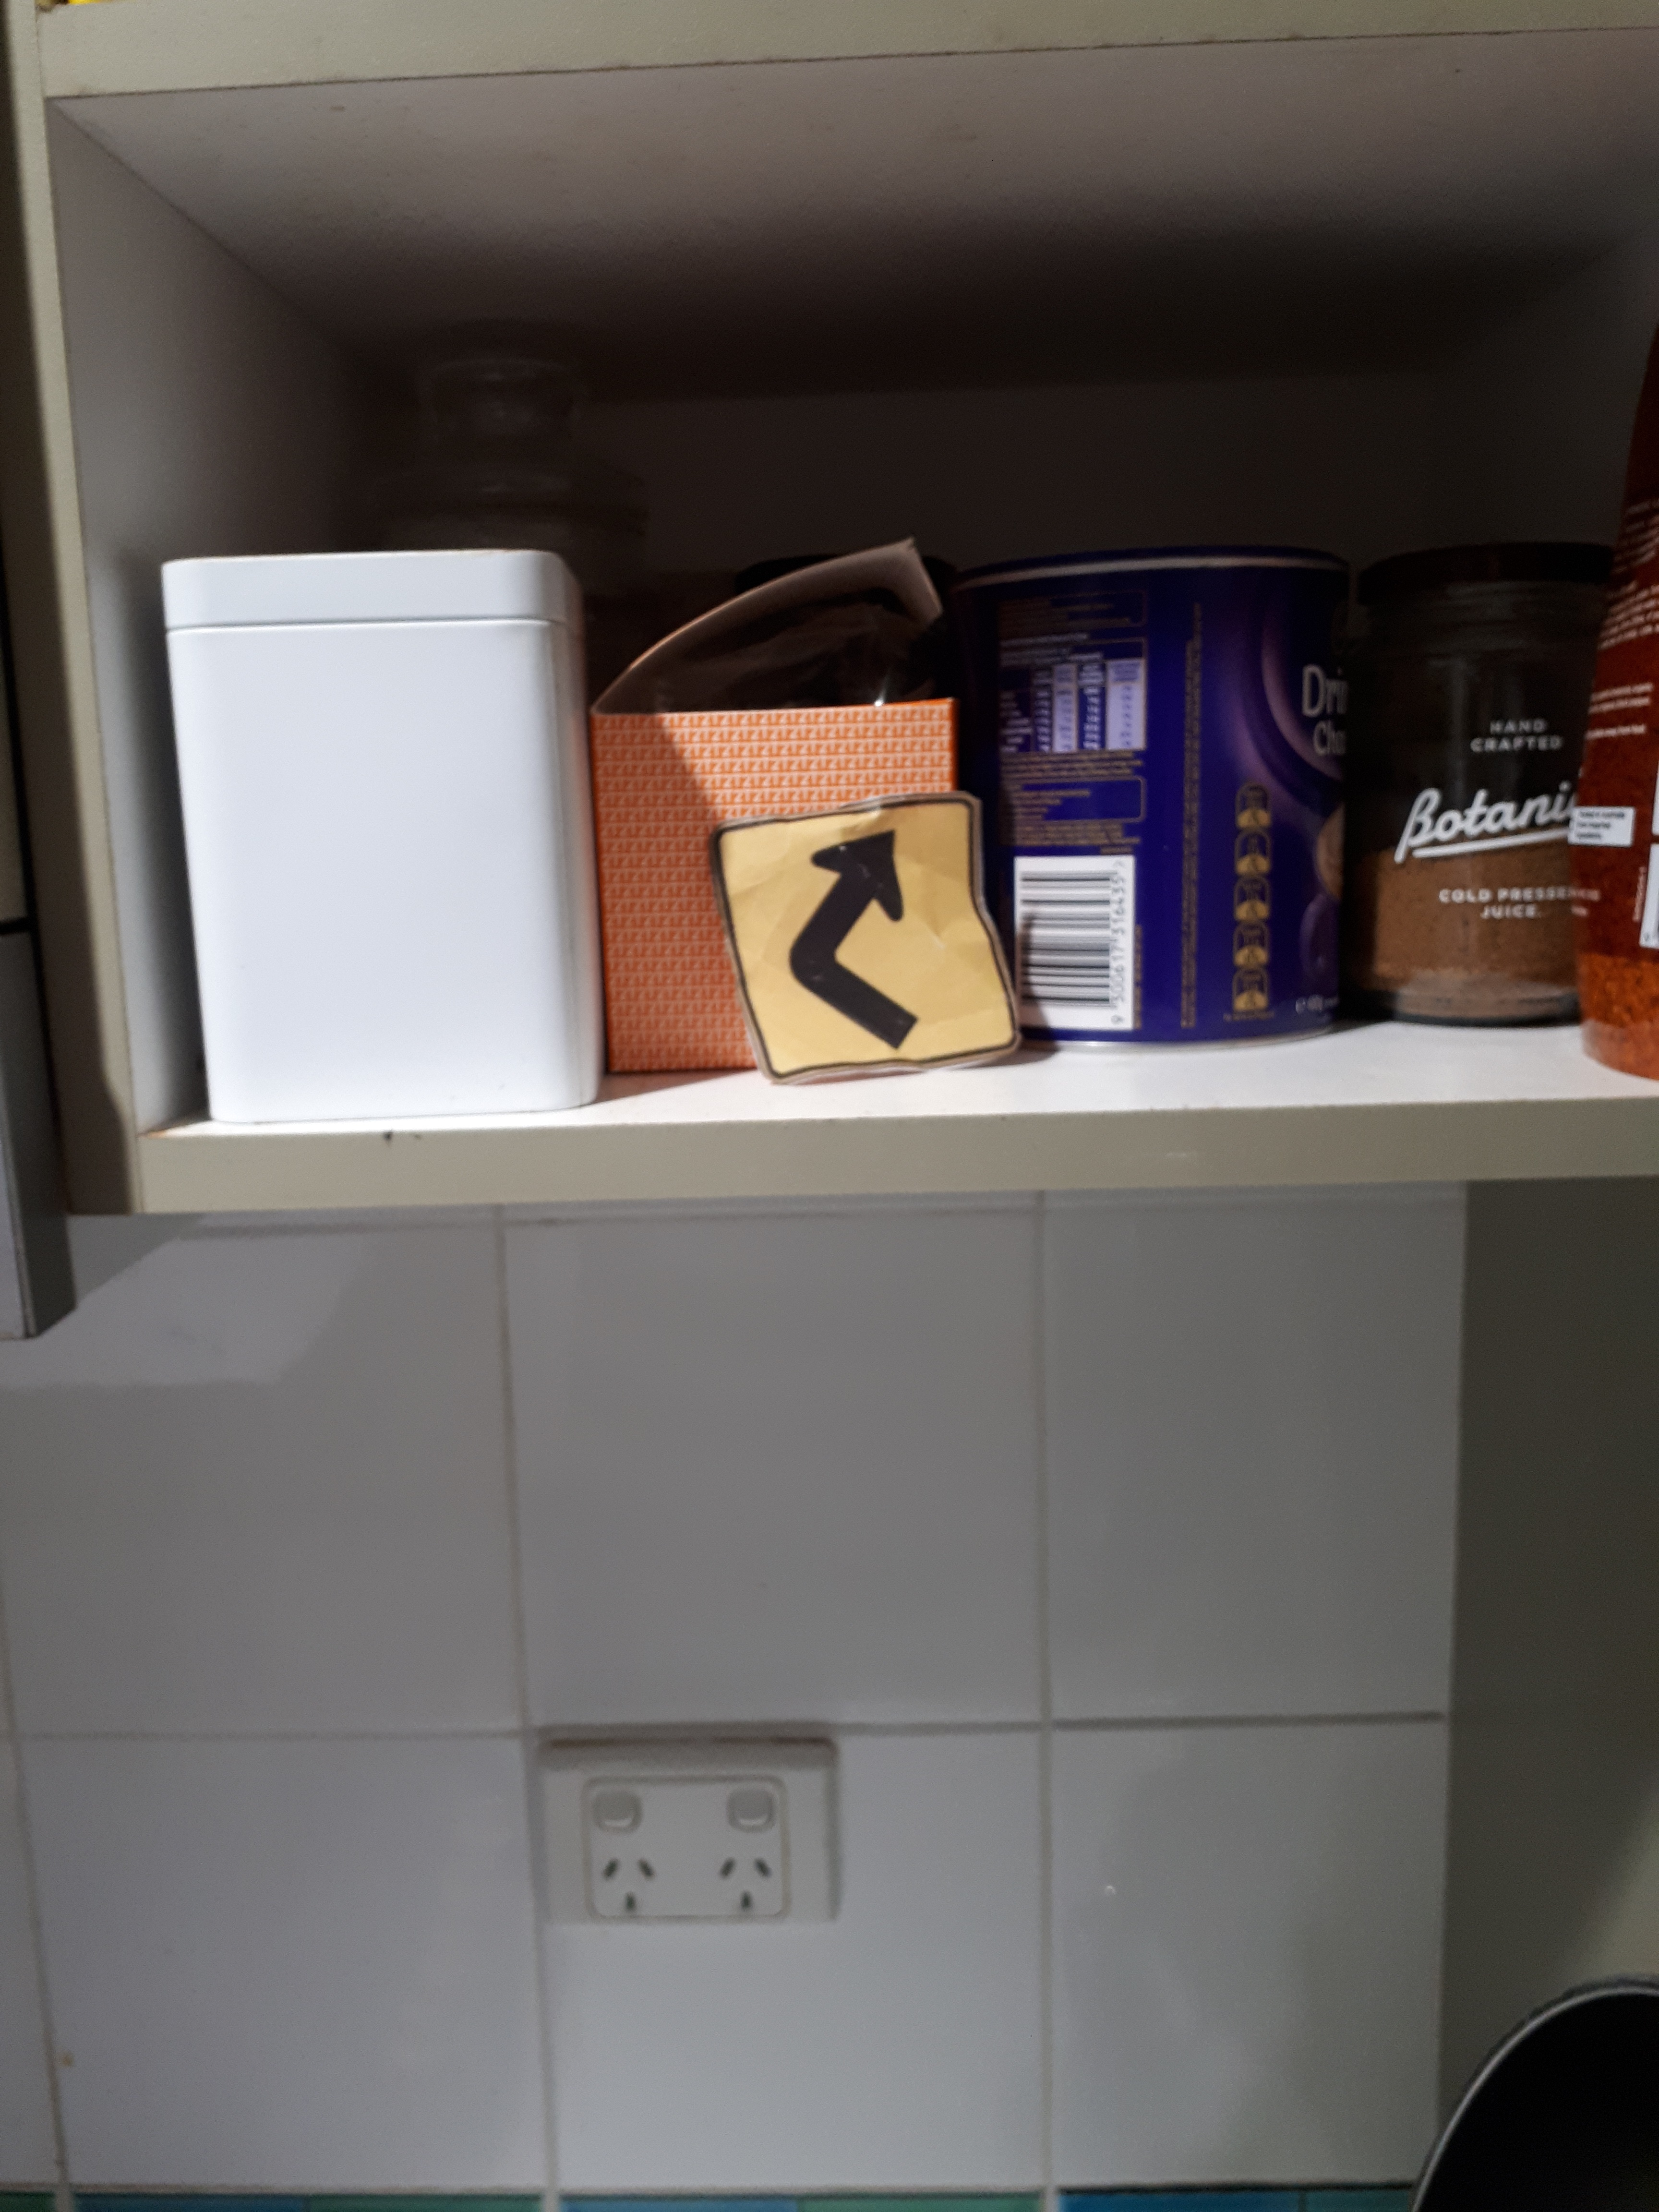right: (683, 794, 1143, 1137), (781, 827, 1049, 1113), (716, 796, 978, 934), (784, 829, 920, 977)
